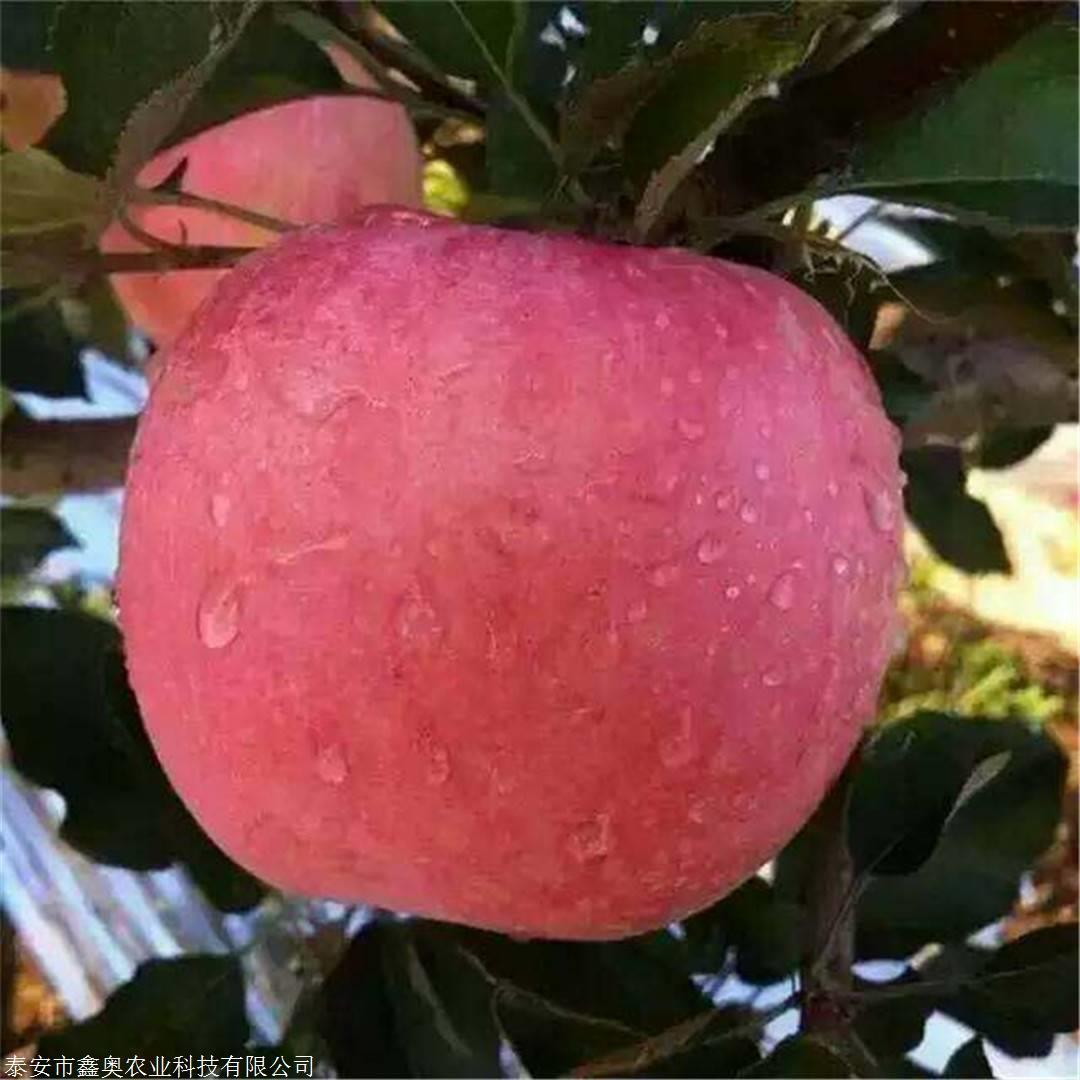apple: (113, 218, 904, 939)
